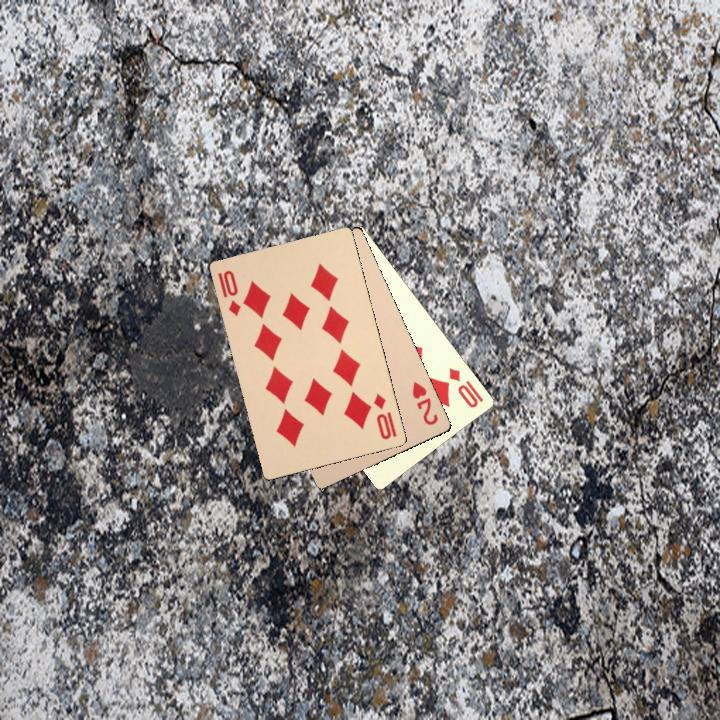10d: (445, 363, 486, 410), (369, 389, 399, 442), (214, 266, 244, 319)
2h: (408, 377, 441, 428)
